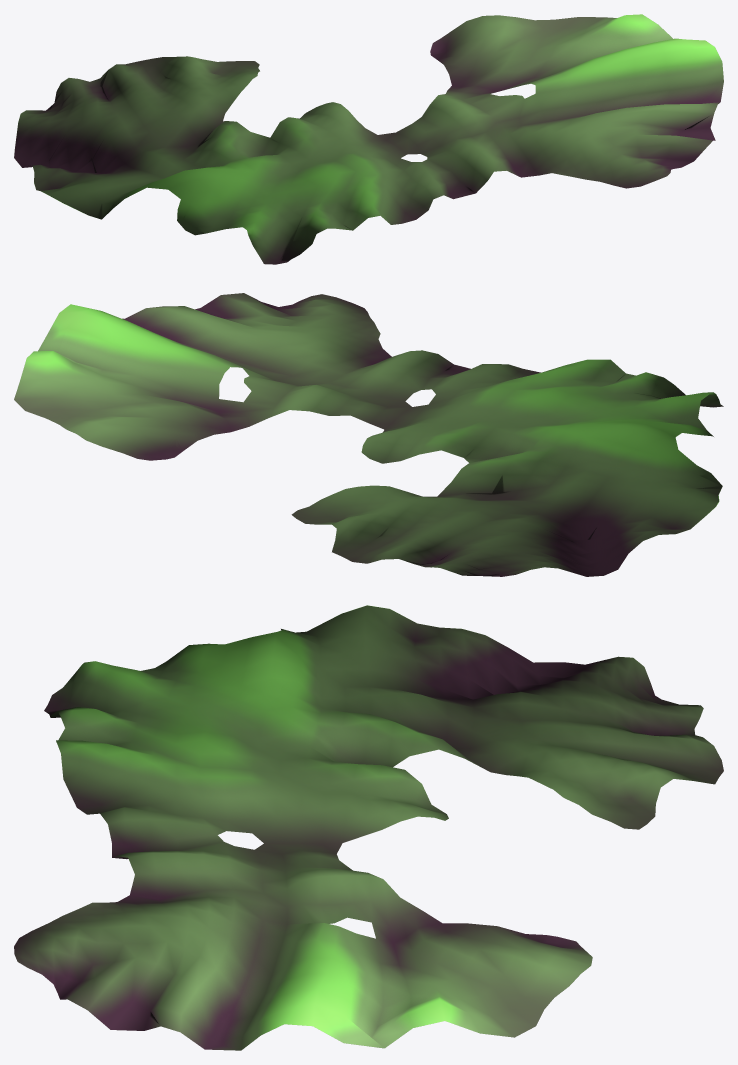
File: Luche.glb
3 views of the same model, one above another, from view 1: azimuth 30°, elevation 25°; view 2: azimuth 150°, elevation 25°; view 3: azimuth 270°, elevation 25° (orthographic). The views are drawn at different scales.
Parts seen in each view (by area): view 1: Plane; view 2: Plane; view 3: Plane.
Boxes of the visible parts, <box> form: Plane: <box>14,14,723,264</box>; Plane: <box>14,293,723,576</box>; Plane: <box>14,605,723,1050</box>.
Size of the model in its own units: 4.57 by 0.3637 by 3.13.
Materials: 1 (1 with a texture image).
